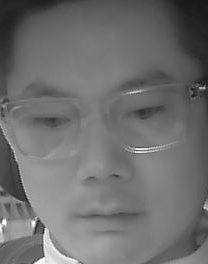eye: (125, 103, 165, 124), (29, 111, 69, 131)
glass: (104, 85, 193, 151), (4, 99, 80, 158)
mouth: (73, 200, 143, 243)
